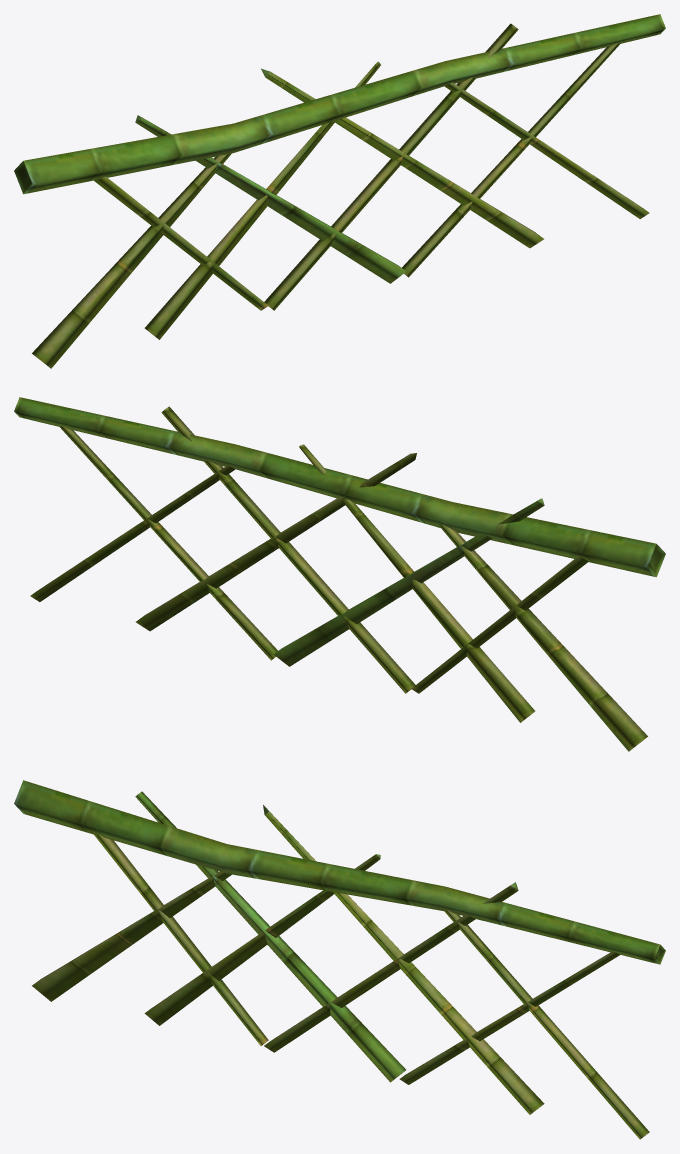
3 views of the same model, one above another, from view 1: azimuth 30°, elevation 25°; view 2: azimuth 150°, elevation 25°; view 3: azimuth 330°, elevation 25° (orthographic).
Parts seen in each view (by area): view 1: li_ba_001; view 2: li_ba_001; view 3: li_ba_001.
Part boxes in pixels (x1,y1,x2,y2): li_ba_001: [14, 14, 665, 368]; li_ba_001: [14, 397, 665, 751]; li_ba_001: [14, 780, 665, 1139].
Bounding box in the file's own units: 310 × 116 × 17.34.
